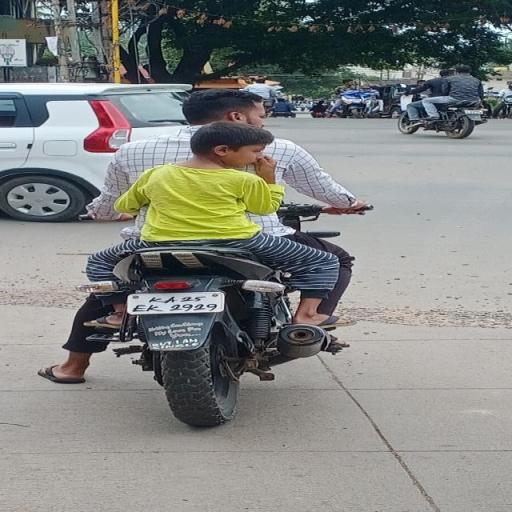bike: (73, 84, 381, 428)
numberplate: (127, 293, 222, 315)
withouthelmet: (193, 125, 273, 163), (186, 89, 268, 124)
